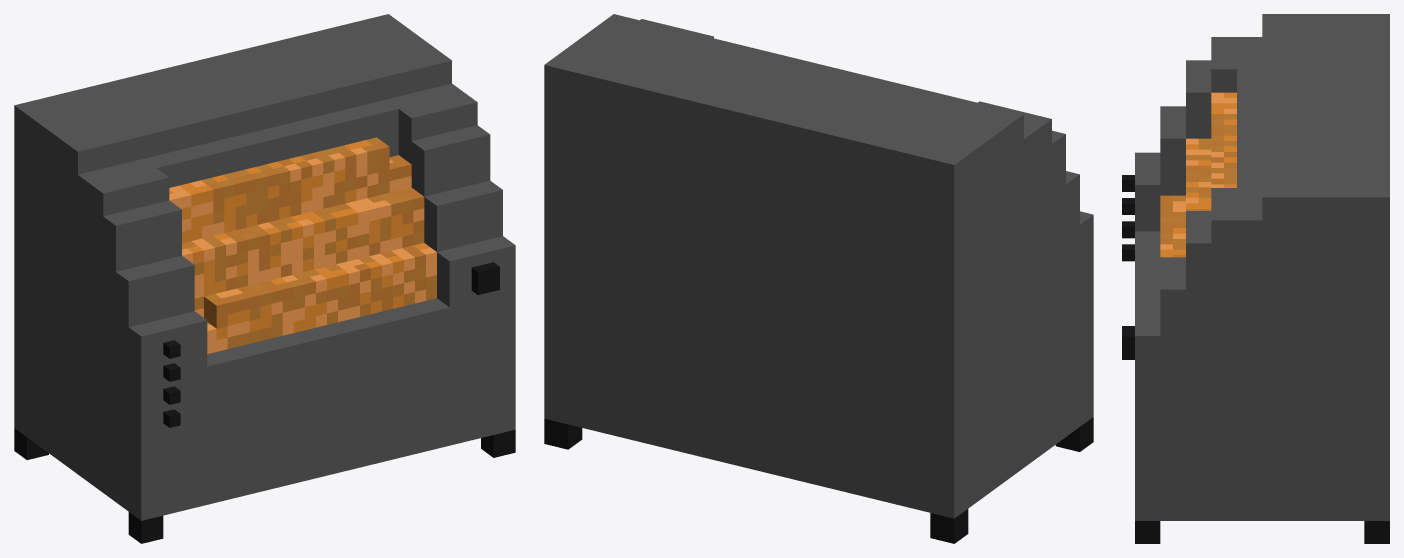
File: baeto 2.0 fuoco.obj
3 renders of one model, left to right at view 1: azimuth 30°, elevation 25°; view 2: azimuth 150°, elevation 25°; view 3: azimuth 270°, elevation 25°, orthographic. The views are drawn at different scales.
Size of the model in its own units: 3.4 by 3 by 2.1.
1 material, 1 textured.
